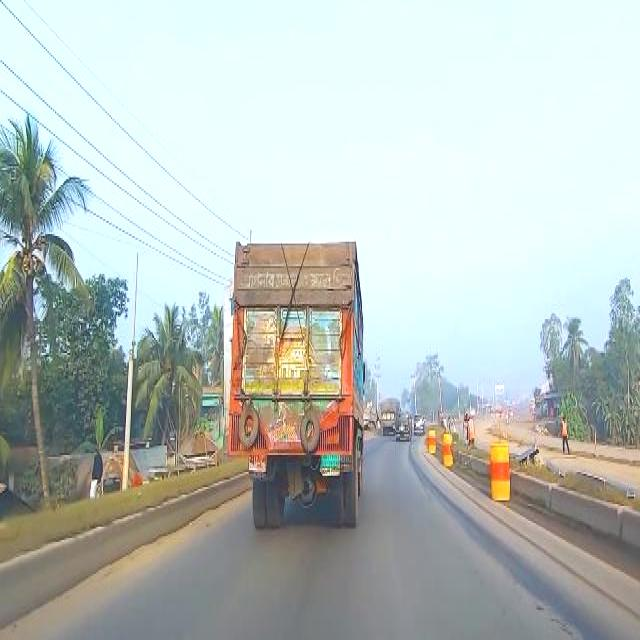TRUCK: (231, 238, 367, 526)
